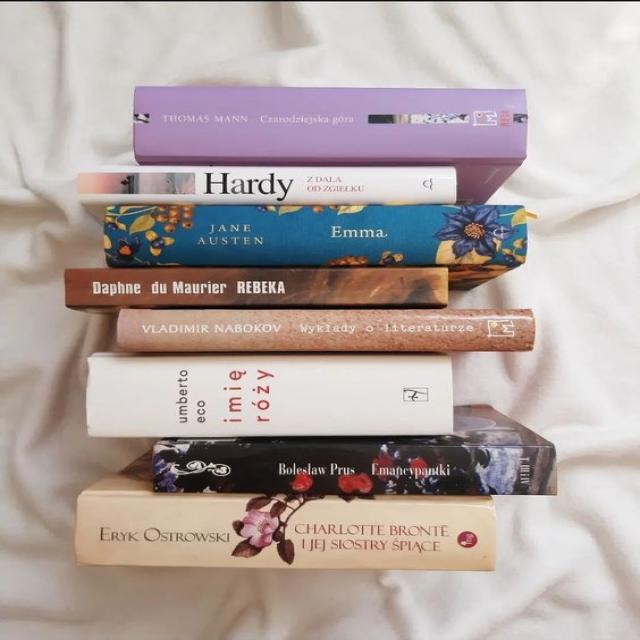book: (87, 359, 453, 435), (74, 500, 493, 566), (133, 85, 524, 155), (105, 206, 528, 265), (154, 444, 557, 494), (118, 310, 535, 349), (66, 268, 447, 306), (80, 166, 457, 202)
